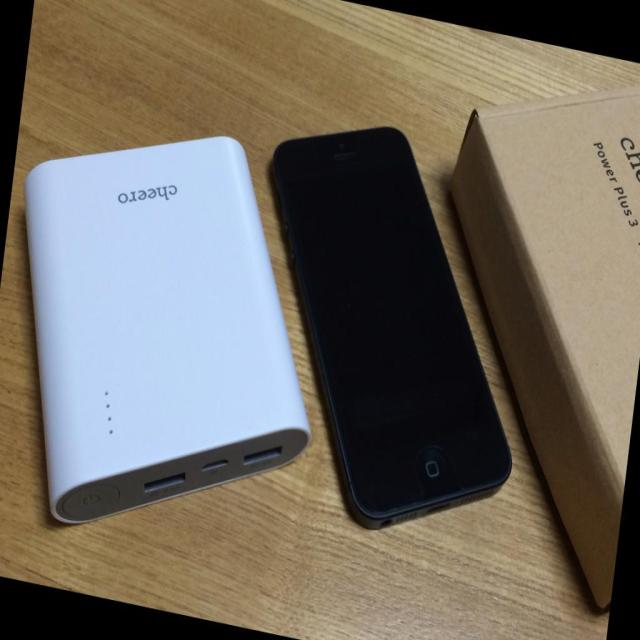handphone: (271, 118, 505, 522)
